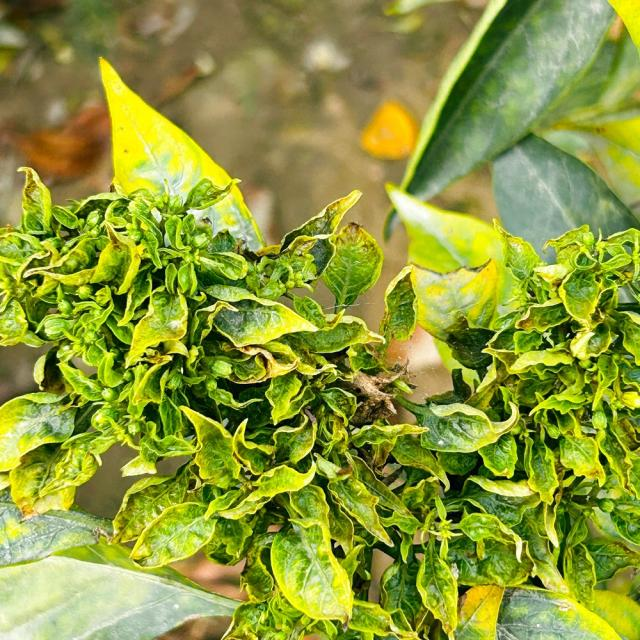Chilli_Leaf_Curl: (1, 53, 638, 638), (394, 219, 638, 638), (382, 0, 638, 264), (97, 55, 266, 254)
